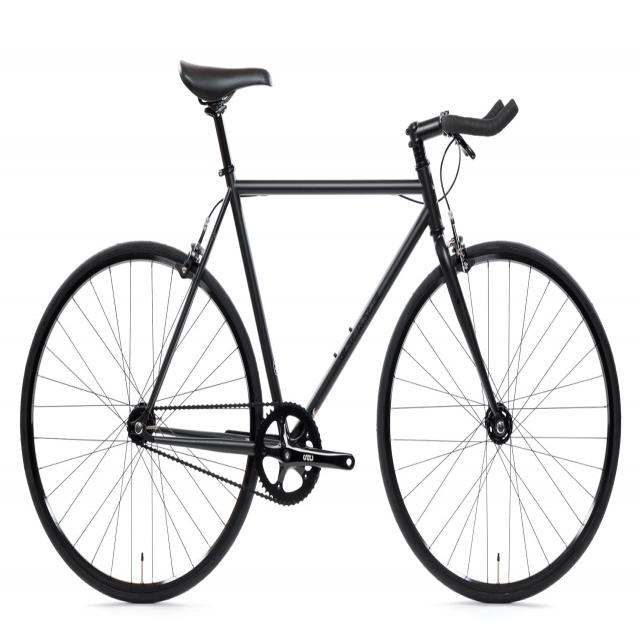bicycle: (15, 36, 627, 622)
